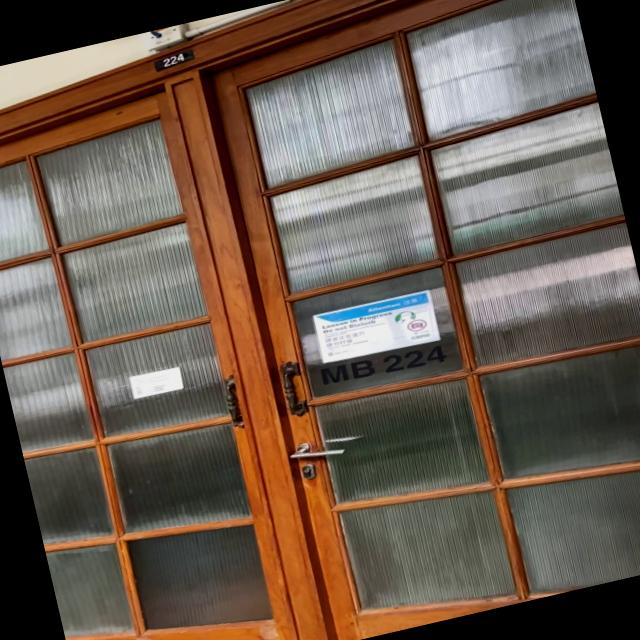room224: (150, 48, 198, 72)
room224Window: (315, 337, 453, 391)
